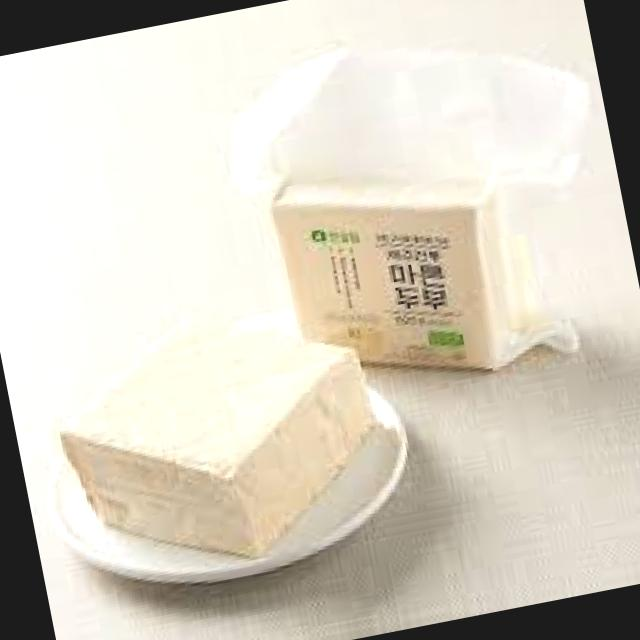tofu: (26, 286, 412, 590)
